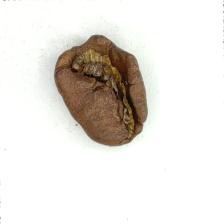NG: (69, 31, 143, 99)
